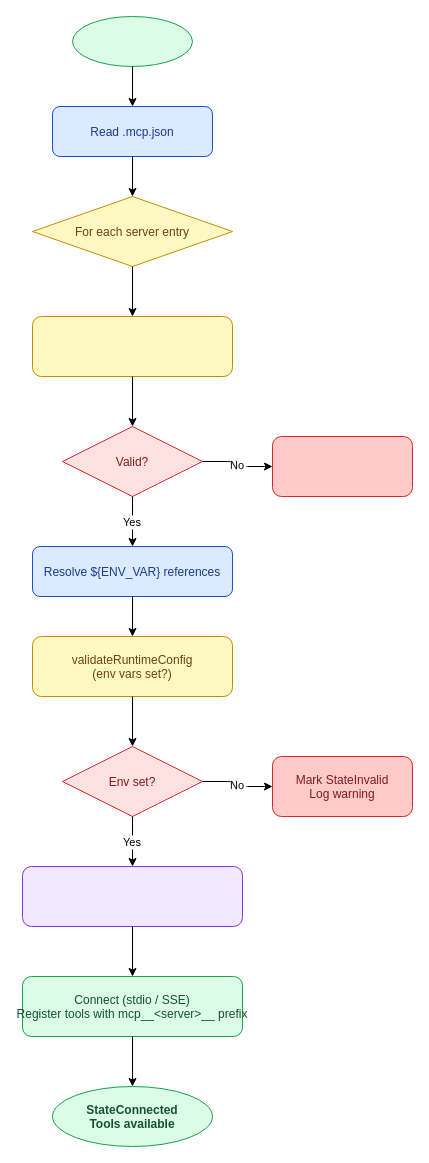
This 429x1163 diagram has some shape labels left out. The box of each missing label's shape, as (x1, y1, x2, y2) in pixels:
Mark StateDenied Log warning: (272, 436, 412, 496)
security.Policy.DecideMCPServer (allow / deny / approval_required): (22, 866, 242, 926)
Startup: (72, 16, 192, 66)
ValidateManagedServer (name, transport, creds format): (32, 316, 232, 376)
